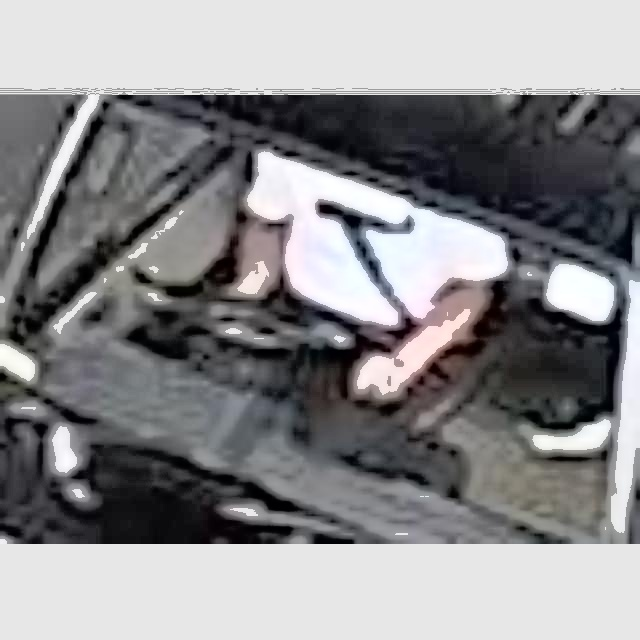pakai: (203, 165, 475, 386)
